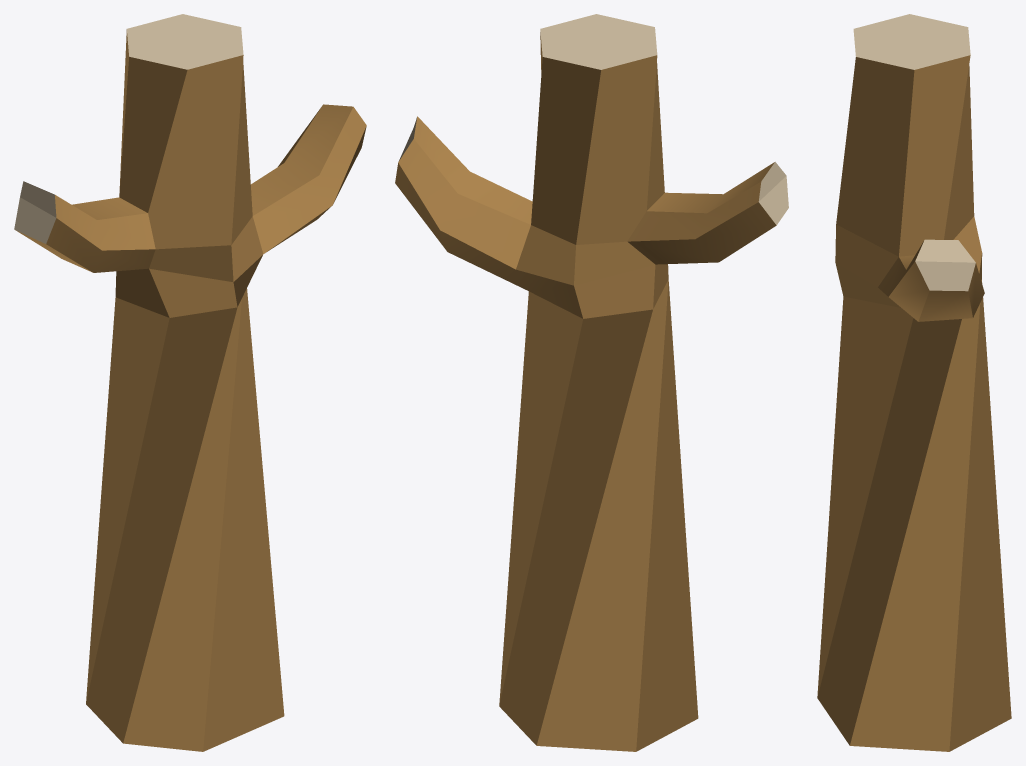
Rendered from tronc.fbx.
3 renders of one model, left to right at view 1: azimuth 30°, elevation 25°; view 2: azimuth 150°, elevation 25°; view 3: azimuth 270°, elevation 25°, orthographic.
Parts seen in each view (by area): view 1: tronc; view 2: tronc; view 3: tronc.
Boxes of the visible parts, x1,y1,x2,y2 form: tronc: (14, 14, 366, 751); tronc: (395, 14, 788, 751); tronc: (817, 14, 1011, 751).
Size of what is drawn, in the model's own units: 124 by 220 by 57.7.
